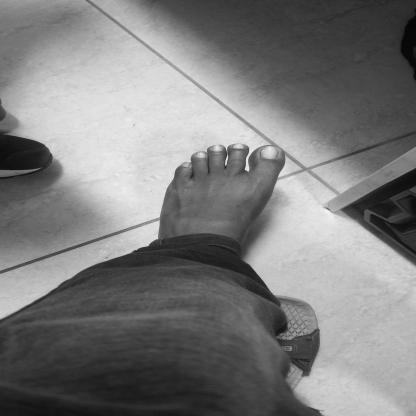ankle: (206, 234, 209, 236)
heel: (236, 255, 239, 257)
left_foot: (136, 147, 295, 286)
pinky: (185, 167, 188, 169)
toe: (274, 152, 277, 153)
